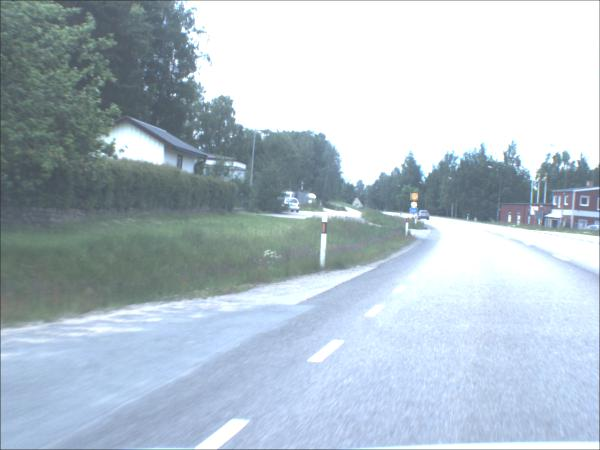70_SIGN: (410, 195, 419, 203)
PRIORITY_ROAD: (411, 203, 418, 210)
